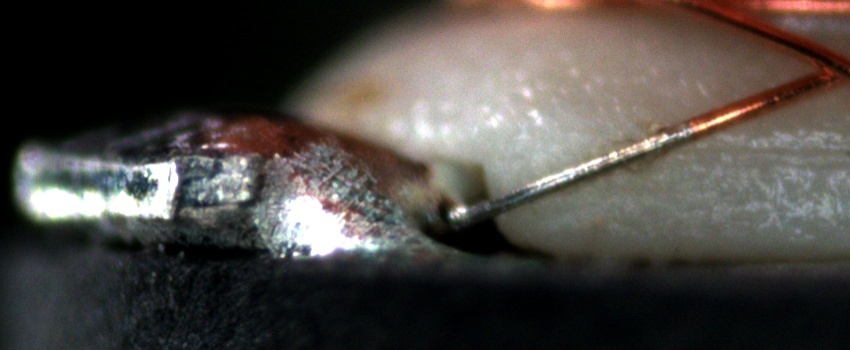CL: (802, 49, 850, 90)
DL: (680, 119, 850, 188)
TS: (448, 124, 692, 228)
